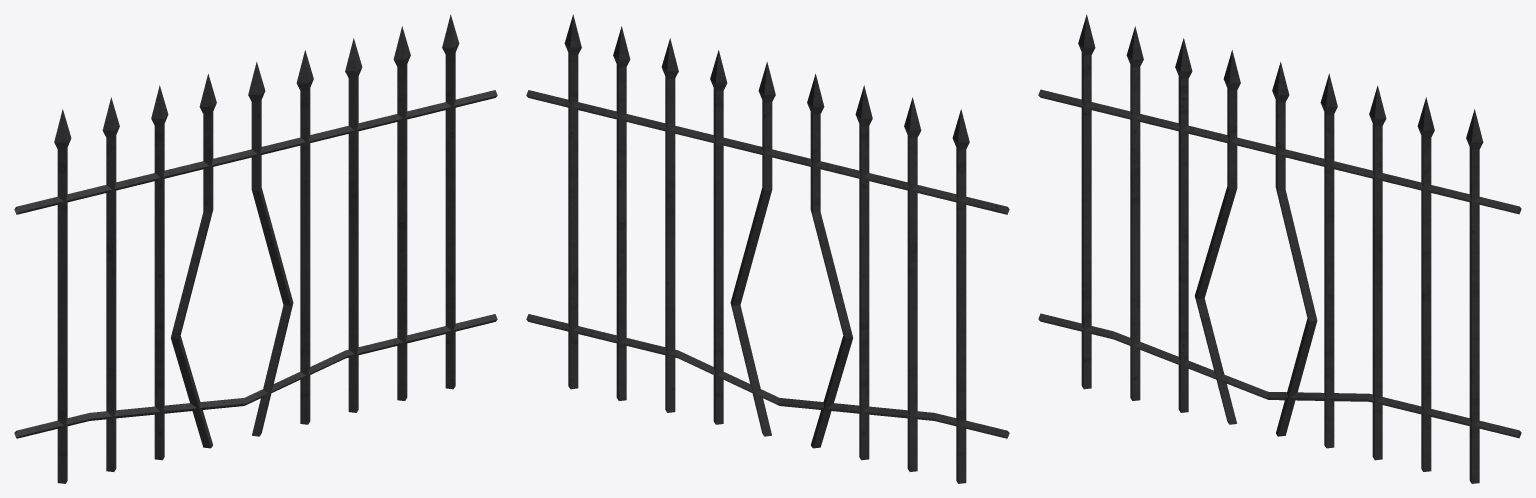
Rendered from fence5.glb.
The picture shows the model from 3 angles, left to right: view 1: azimuth 30°, elevation 25°; view 2: azimuth 150°, elevation 25°; view 3: azimuth 330°, elevation 25°; orthographic projection.
Visible parts, largest first — view 1: Fence_5; view 2: Fence_5; view 3: Fence_5.
Part boxes in pixels (x1,y1,x2,y2): Fence_5: [14, 14, 497, 483]; Fence_5: [526, 14, 1009, 483]; Fence_5: [1038, 14, 1521, 483].
Size of the model in its own units: 333 by 248 by 7.24.
1 material, 1 textured.
